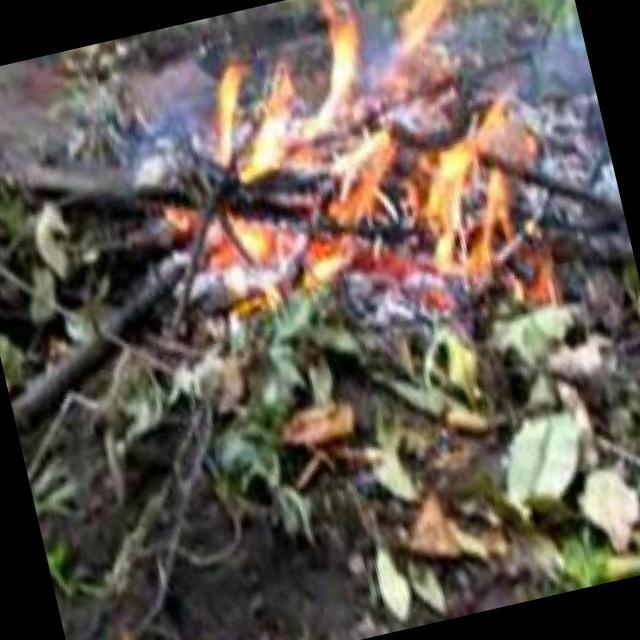Fire: (148, 1, 574, 328)
